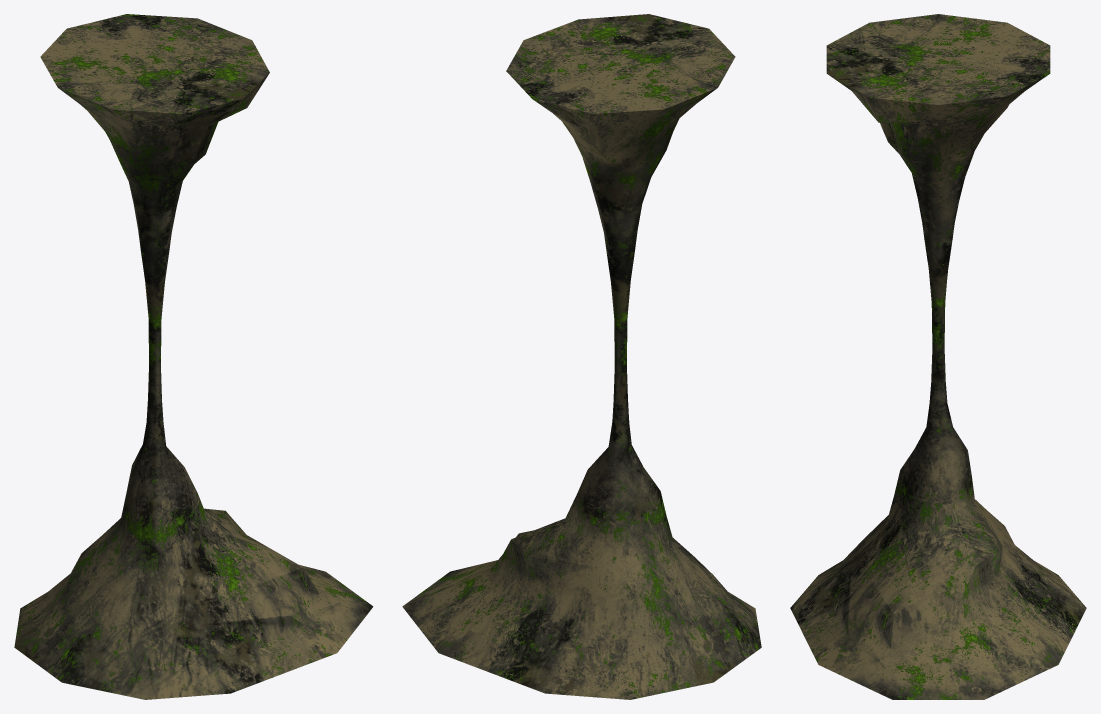
The model's file is stalagmite.fbx.
3 views of the same model, side by side, from view 1: azimuth 30°, elevation 25°; view 2: azimuth 150°, elevation 25°; view 3: azimuth 270°, elevation 25° (orthographic). The views are drawn at different scales.
Parts seen in each view (by area): view 1: Stalagmite; view 2: Stalagmite; view 3: Stalagmite.
Part boxes in pixels (box(x1,y1,x2,y2)): Stalagmite: box(14, 14, 373, 699); Stalagmite: box(402, 14, 761, 699); Stalagmite: box(790, 14, 1086, 699).
Bounding box in the file's own units: 239 × 420 × 205.
1 material, 1 textured.
